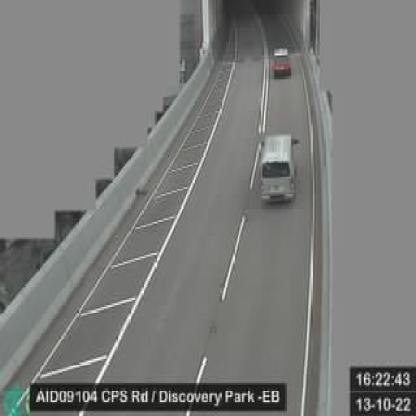Car: (258, 131, 300, 206), (272, 47, 291, 76)
